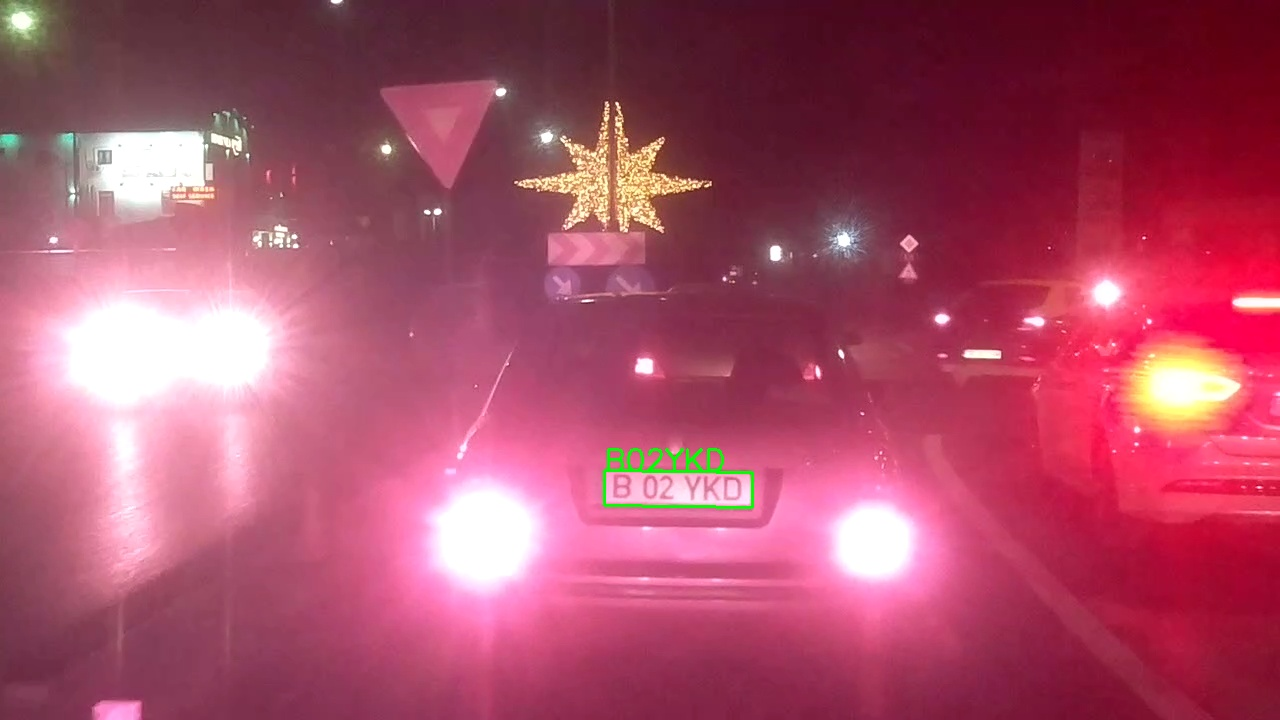license-plate: (603, 469, 754, 509)
